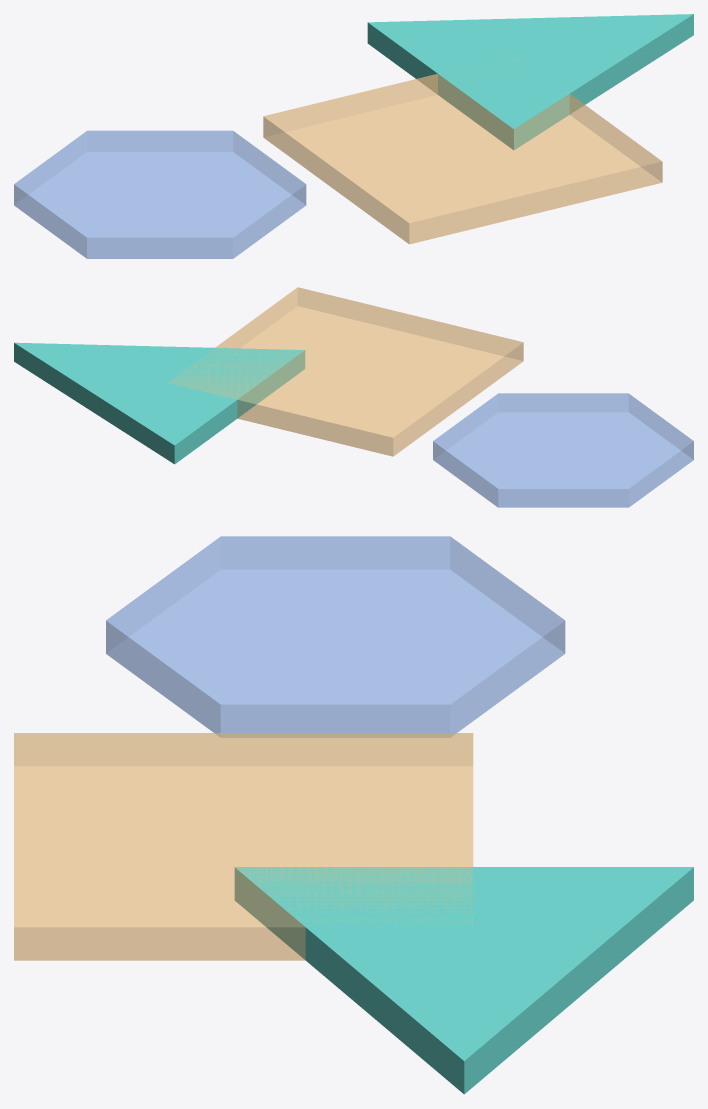
File: elicottero_step4.glb
3 views of the same model, one above another, from view 1: azimuth 30°, elevation 25°; view 2: azimuth 150°, elevation 25°; view 3: azimuth 270°, elevation 25° (orthographic). The views are drawn at different scales.
Parts seen in each view (by area): view 1: quadrato_piccolo, esagono, triangolo_isoscele_piccolo; view 2: quadrato_piccolo, esagono, triangolo_isoscele_piccolo; view 3: quadrato_piccolo, esagono, triangolo_isoscele_piccolo.
Part boxes in pixels (x1,y1,x2,y2): quadrato_piccolo: [263, 62, 662, 244]; esagono: [14, 130, 306, 258]; triangolo_isoscele_piccolo: [367, 14, 693, 149]; quadrato_piccolo: [168, 287, 523, 456]; esagono: [433, 393, 693, 507]; triangolo_isoscele_piccolo: [14, 342, 305, 464]; quadrato_piccolo: [14, 733, 473, 960]; esagono: [106, 536, 565, 737]; triangolo_isoscele_piccolo: [234, 867, 693, 1094].
Size of the model in its own units: 2.7 by 0.08 by 1.48.
